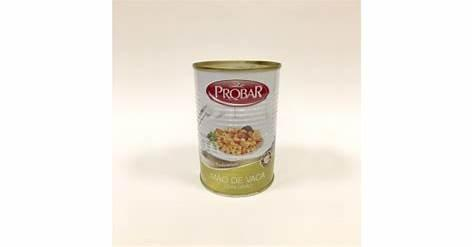metal: (194, 60, 281, 196)
